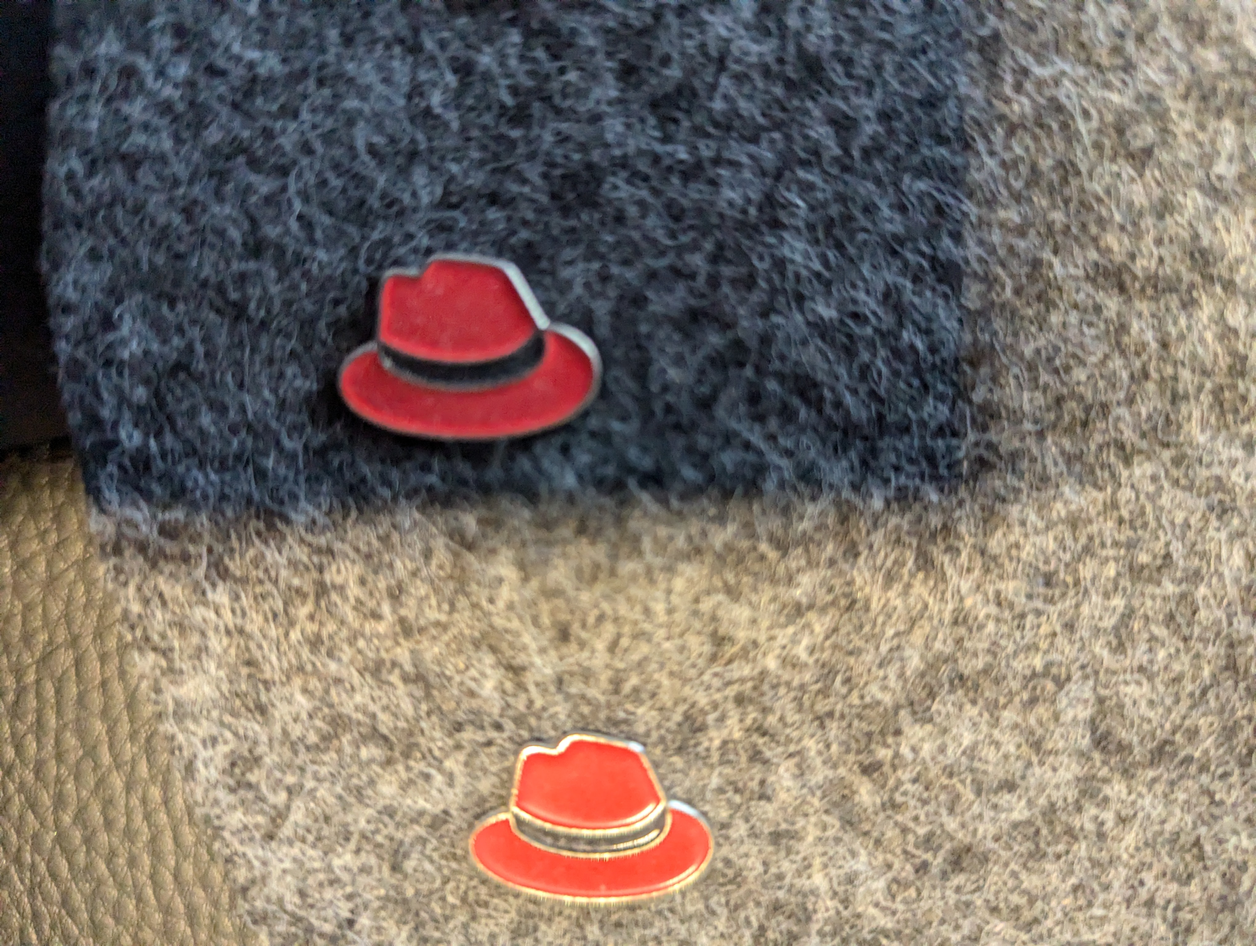Red-Hat: (327, 226, 629, 457), (449, 706, 733, 919)
